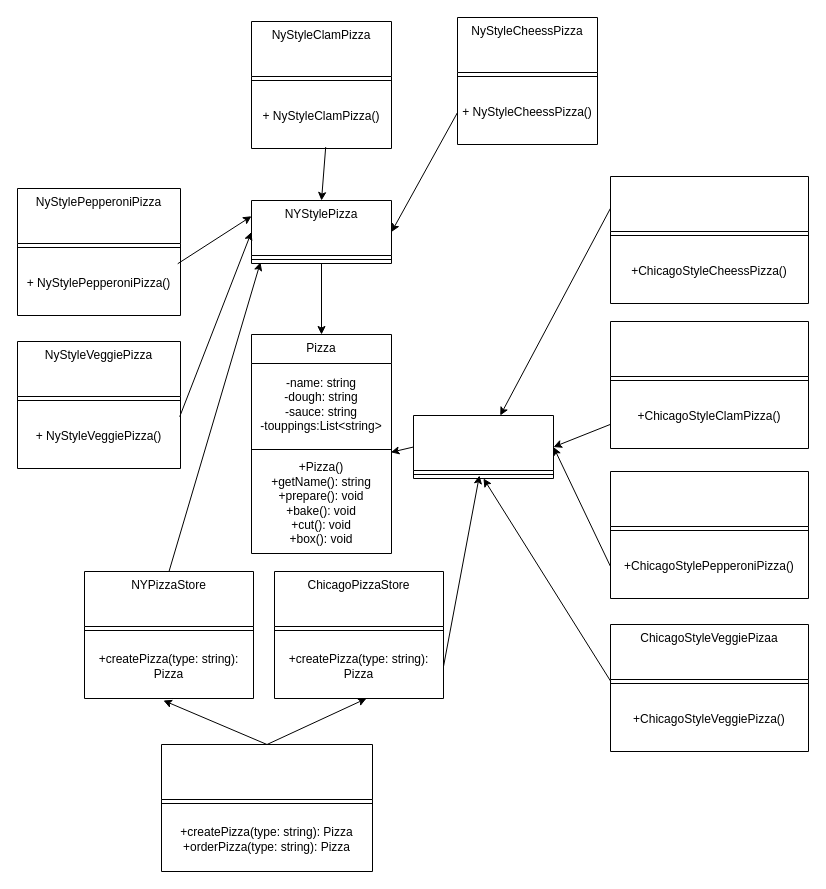
The diagram is 826 pixels wide and 889 high, and some of its shapes have lost their labels. Each missing label, with the box of its shape:
ChicagoStyleCheessPizaa: (610, 176, 808, 304)
ChicagoStyleClamPizaa: (610, 320, 808, 448)
ChicagoStylePepperoniPizaa: (610, 470, 808, 598)
ChicagoStylePizza: (412, 414, 554, 478)
PizzaStore: (160, 744, 372, 872)
